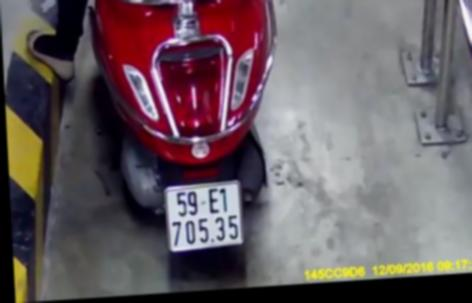License_Plate: (154, 176, 252, 258)
